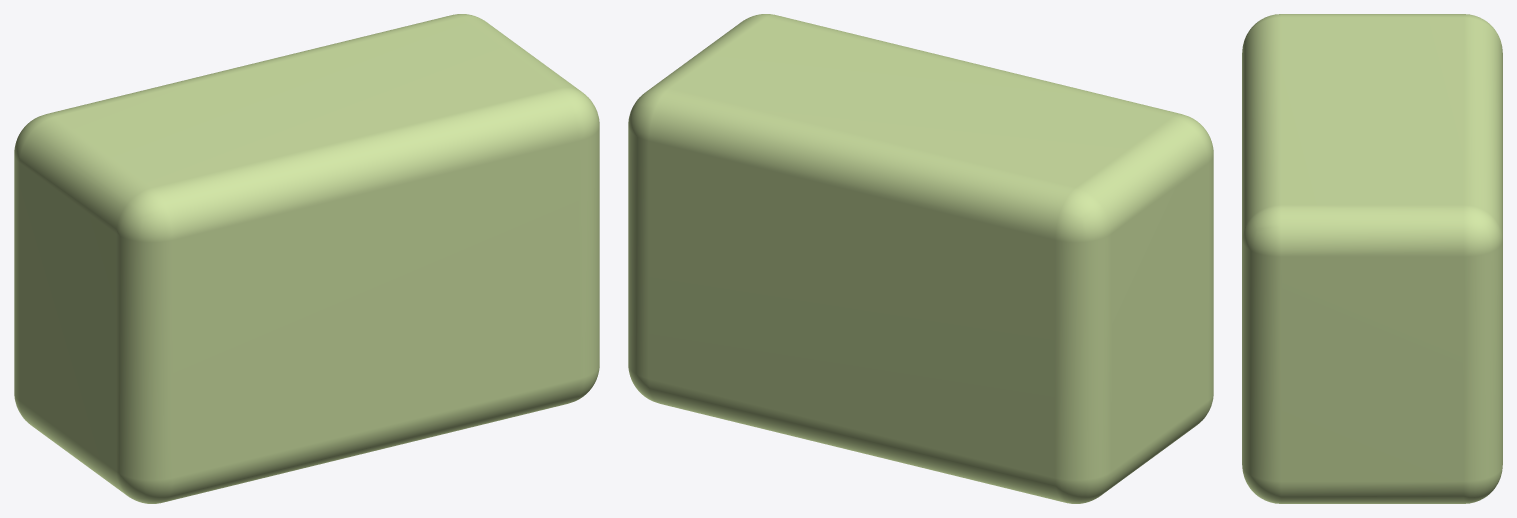
The model's file is plant_cell.glb.
3 views of the same model, side by side, from view 1: azimuth 30°, elevation 25°; view 2: azimuth 150°, elevation 25°; view 3: azimuth 270°, elevation 25° (orthographic). The views are drawn at different scales.
Visible parts, largest first — view 1: cell_wall; view 2: cell_wall; view 3: cell_wall.
Boxes of the visible parts, x1=… form: cell_wall: x1=14, y1=14, x2=599, y2=503; cell_wall: x1=628, y1=14, x2=1213, y2=503; cell_wall: x1=1242, y1=14, x2=1502, y2=503.
Bounding box in the file's own units: 0.24 × 0.15 × 0.12.
